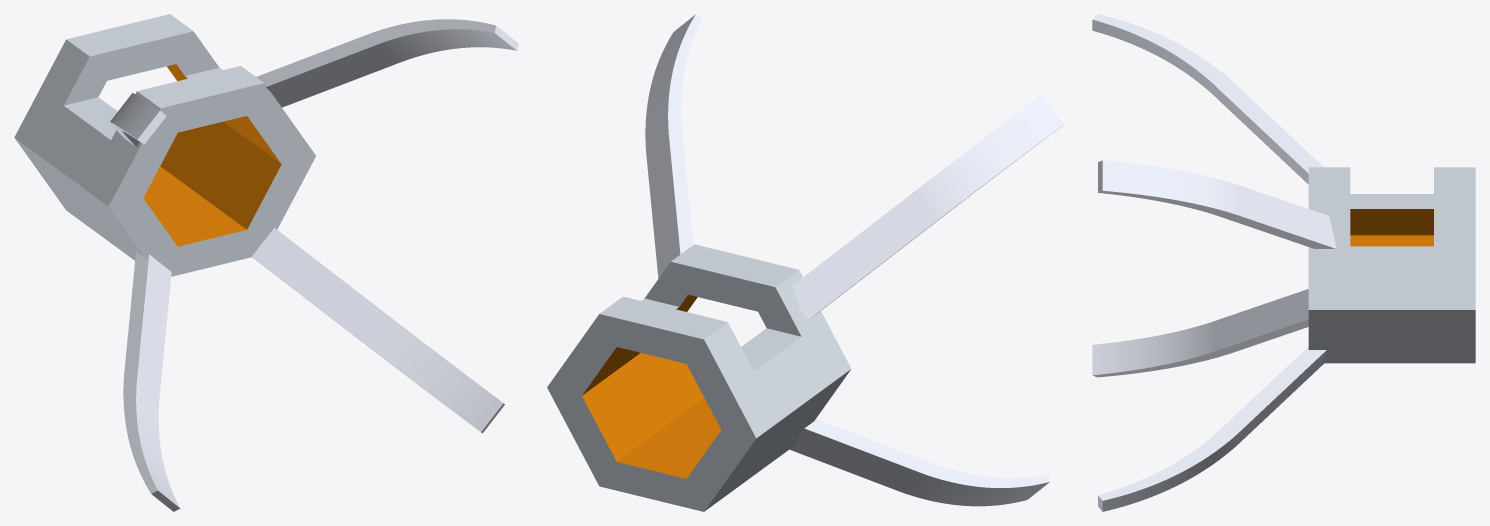
The model's file is ShrapnelCannon.fbx.
3 renders of one model, left to right at view 1: azimuth 30°, elevation 25°; view 2: azimuth 150°, elevation 25°; view 3: azimuth 270°, elevation 25°, orthographic. The views are drawn at different scales.
Visible parts, largest first — view 1: mergedBlocks; view 2: mergedBlocks; view 3: mergedBlocks.
Part boxes in pixels (left/top/right/bottom): mergedBlocks: left=14, top=14, right=518, bottom=511; mergedBlocks: left=547, top=14, right=1063, bottom=511; mergedBlocks: left=1092, top=14, right=1475, bottom=511.
Size of the model in its own units: 14.1 by 14.19 by 13.78.
